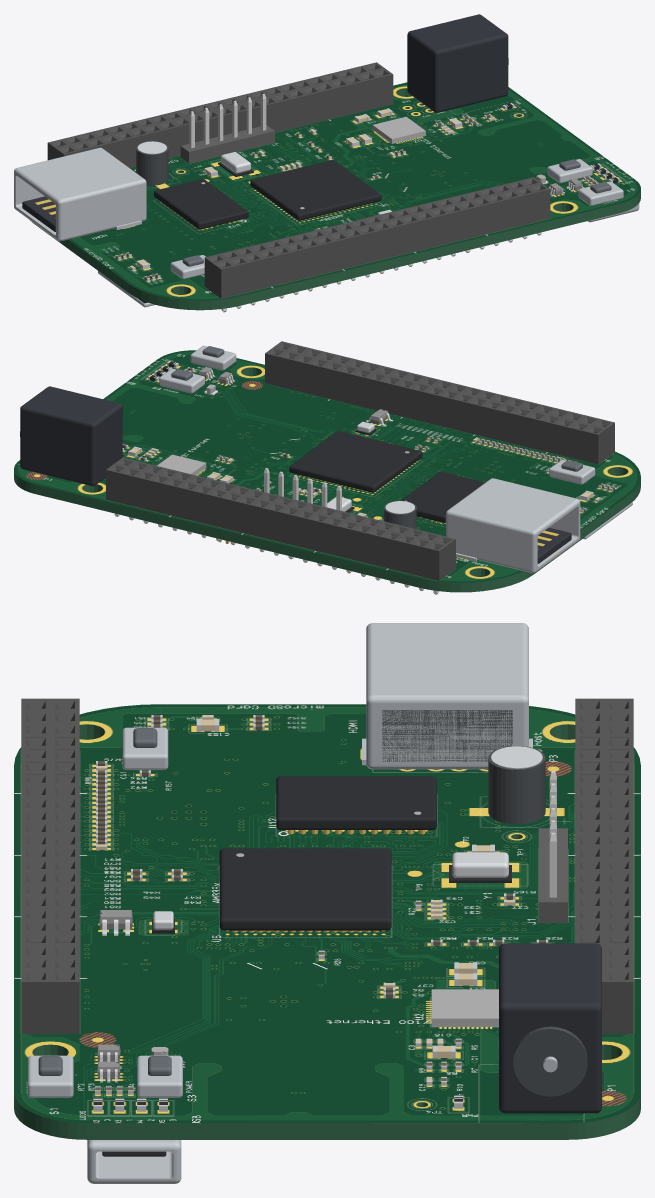
Rendered from minimal-board.glb.
3 renders of one model, top to bottom at view 1: azimuth 30°, elevation 25°; view 2: azimuth 150°, elevation 25°; view 3: azimuth 270°, elevation 25°, orthographic. The views are drawn at different scales.
Visible parts, largest first — view 1: Box0, P8, P9, P3, P1, U5, J1, U12, C34, U2, S1, S3 (+2 smaller); view 2: Box0, P9, P8, P3, P1, U5, U12, J1, S2, S1, S3, C34 (+1 smaller); view 3: Box0, P3, P8, P1, P9, U5, U12, C34, P4, J1, U2, S1 (+3 smaller).
Boxes of the visible parts, <box> form: Box0: <box>30,82,640,310</box>; P8: <box>204,177,550,312</box>; P9: <box>47,62,393,167</box>; P3: <box>14,147,146,241</box>; P1: <box>407,14,508,112</box>; U5: <box>250,160,381,220</box>; J1: <box>180,94,274,163</box>; U12: <box>154,179,248,230</box>; C34: <box>136,141,168,185</box>; U2: <box>372,116,425,143</box>; S1: <box>578,181,623,205</box>; S3: <box>547,159,592,183</box>; Box0: <box>14,350,640,592</box>; P9: <box>106,457,455,594</box>; P8: <box>265,341,614,464</box>; P3: <box>446,478,580,573</box>; P1: <box>20,386,122,486</box>; U5: <box>289,431,422,492</box>; U12: <box>400,471,485,523</box>; J1: <box>264,468,341,510</box>; S2: <box>549,459,595,484</box>; S1: <box>190,345,236,370</box>; S3: <box>159,368,204,393</box>; C34: <box>384,501,416,529</box>; Box0: <box>14,704,640,1139</box>; P3: <box>362,623,532,769</box>; P8: <box>21,698,79,1033</box>; P1: <box>499,943,601,1113</box>; P9: <box>575,698,633,1033</box>; U5: <box>219,848,391,932</box>; U12: <box>276,776,436,834</box>; C34: <box>488,746,545,824</box>; P4: <box>87,1140,181,1183</box>; J1: <box>538,771,567,922</box>; U2: <box>431,989,498,1026</box>; S1: <box>27,1055,73,1097</box>.
Size of the model in its own units: 89.27 by 16.6 by 54.64.
27 materials, 2 textured.
